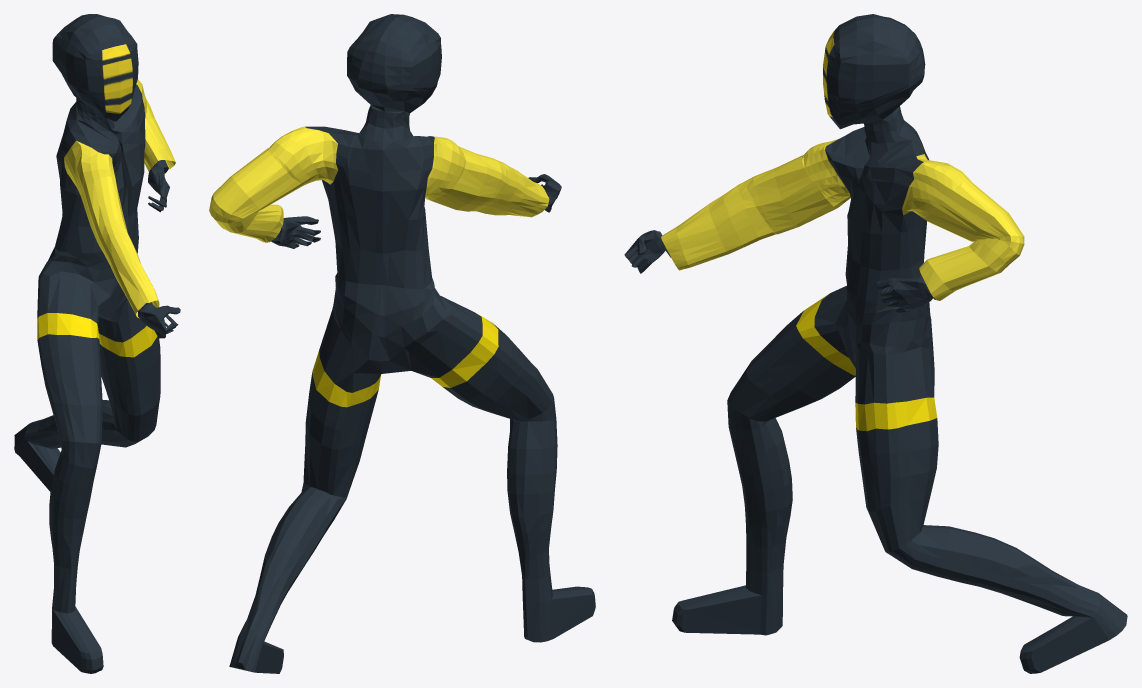
File: Sentry_WL_000009.obj
The picture shows the model from 3 angles, left to right: view 1: azimuth 30°, elevation 25°; view 2: azimuth 150°, elevation 25°; view 3: azimuth 270°, elevation 25°; orthographic projection. The views are drawn at different scales.
Parts seen in each view (by area): view 1: Cube; view 2: Cube; view 3: Cube.
Part boxes in pixels (x1,y1,x2,y2): Cube: (14, 14, 180, 673); Cube: (209, 14, 595, 673); Cube: (624, 14, 1127, 673).
Bounding box in the file's own units: 1.35 × 3.6 × 2.49.
